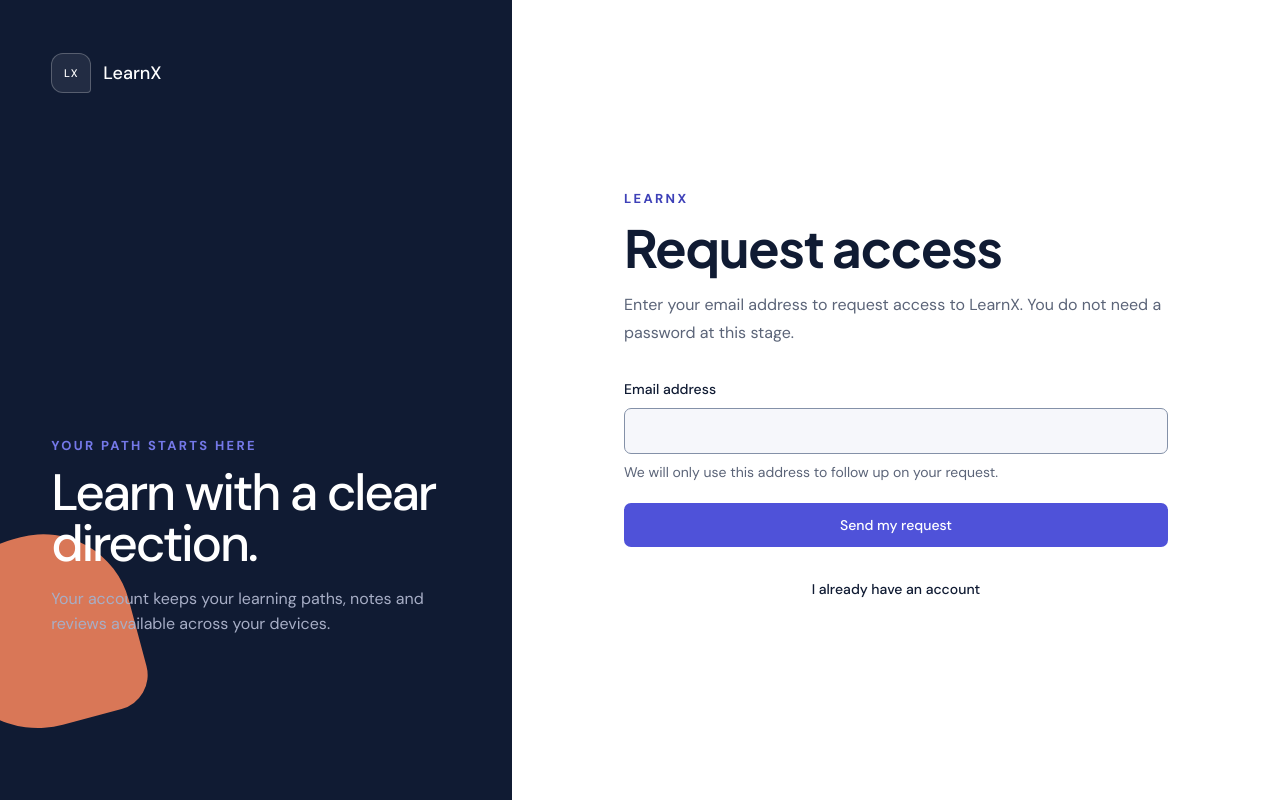
Test: App › initialise une nouvelle demande avec la langue du navigateur
In the field labelled "Email address": (896, 431) [624,408,1168,454], type "english@example.com"
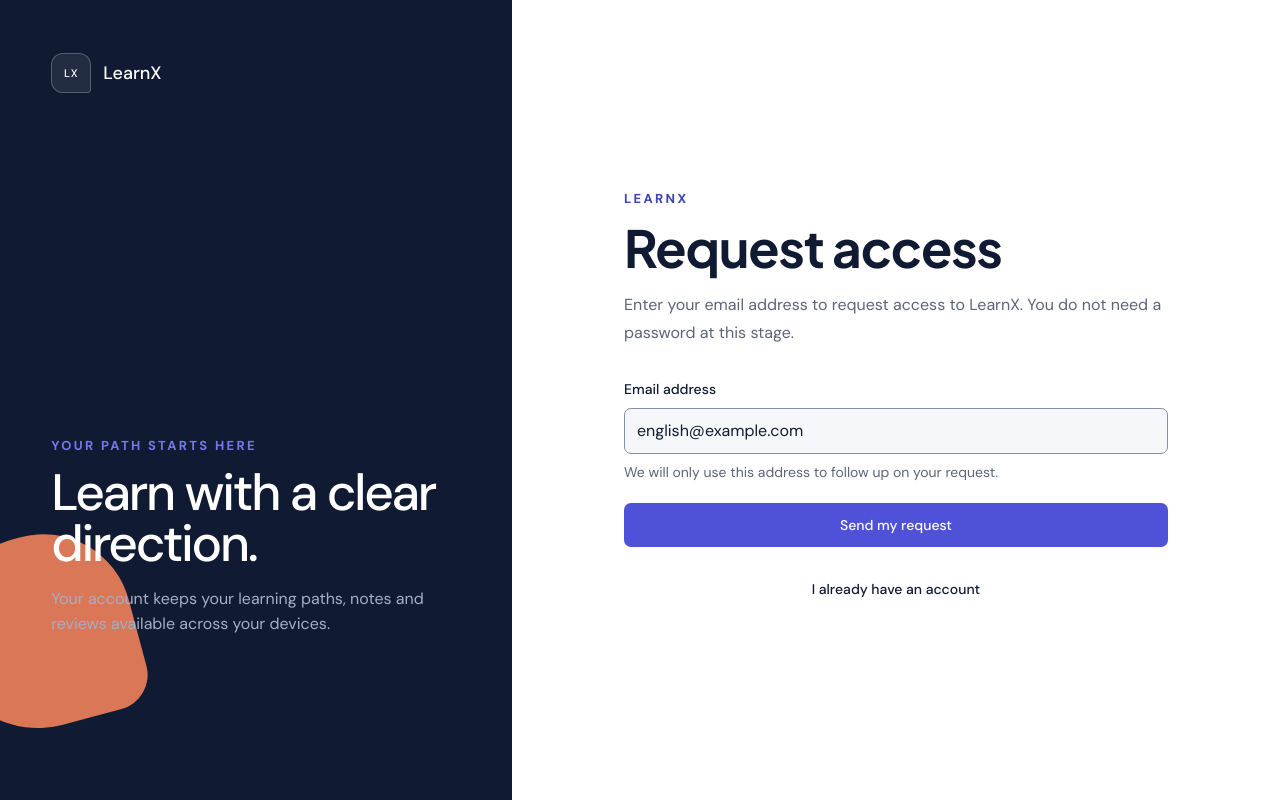
Click the button "Send my request": (896, 525) [624,503,1168,547]
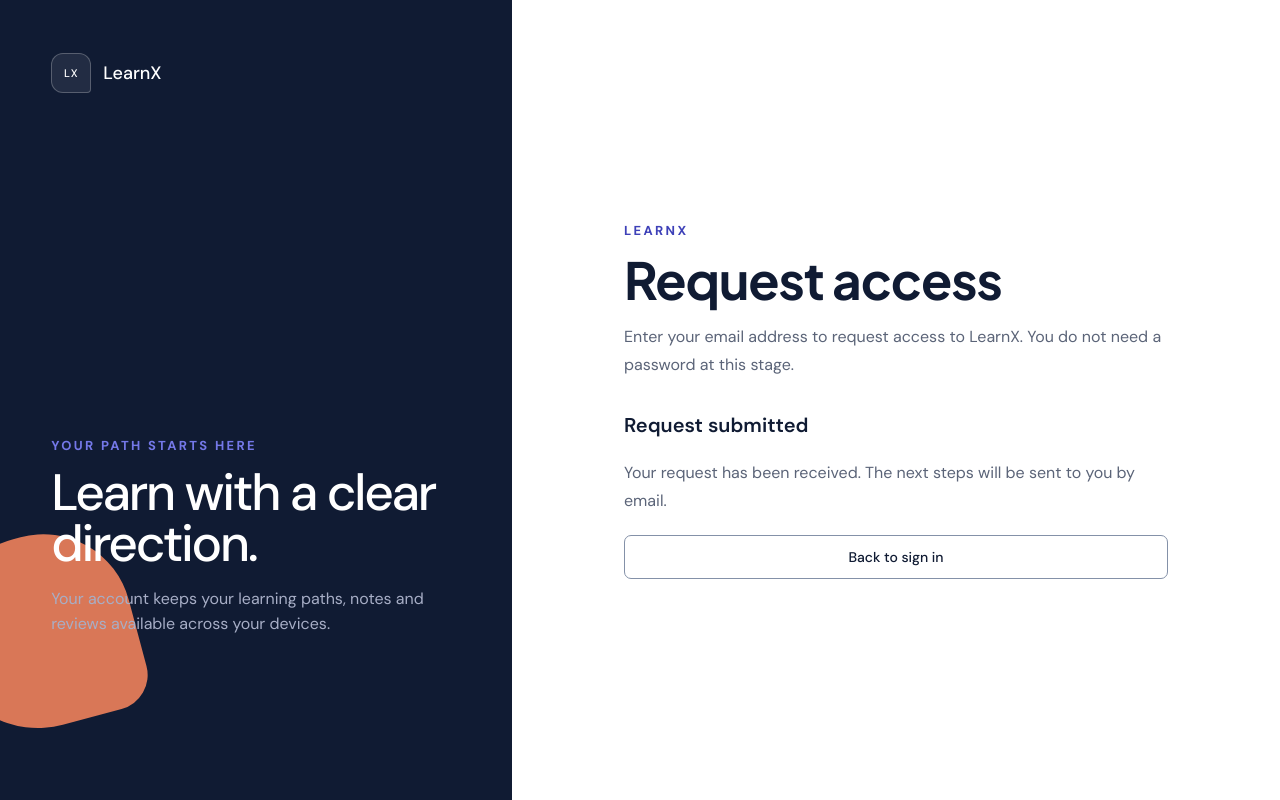
Now the heading "Request submitted" is shown, box [624,412,808,438]
